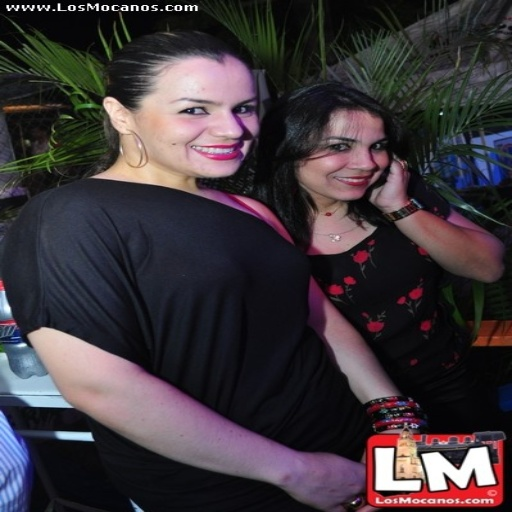hand: (248, 428, 372, 504), (356, 430, 419, 510), (366, 151, 413, 209)
